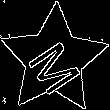M_NE: (21, 26, 87, 93)
